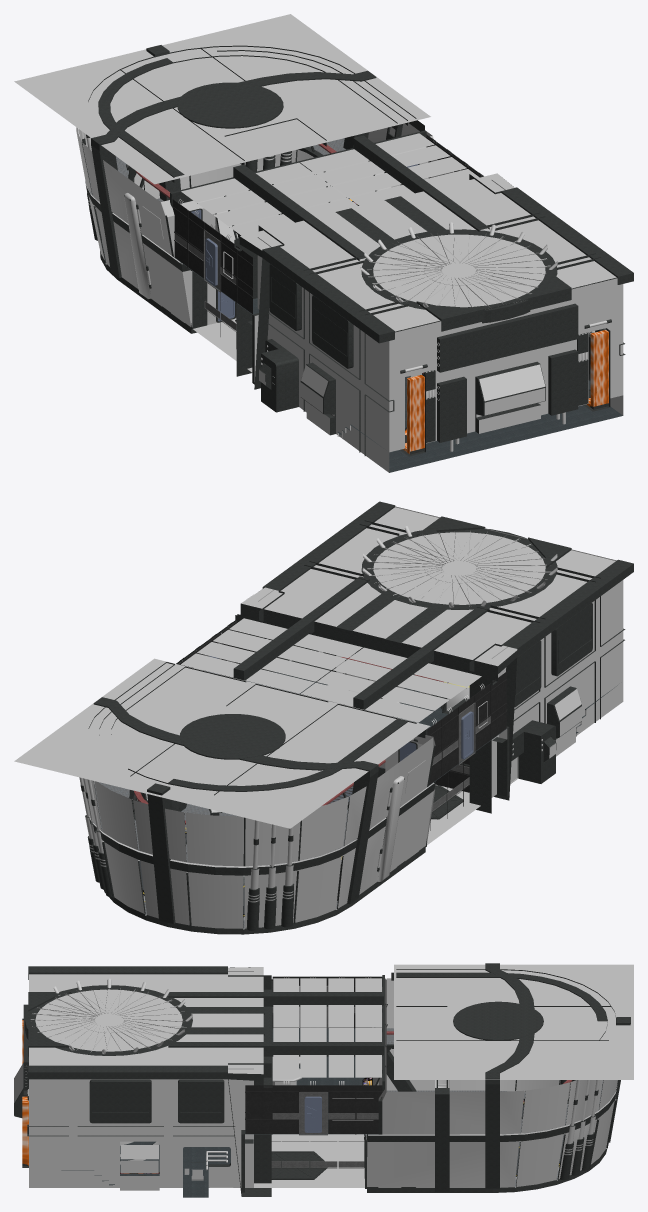
The model's file is MonitorShuttlebay.fbx.
The picture shows the model from 3 angles, top to bottom: view 1: azimuth 30°, elevation 25°; view 2: azimuth 150°, elevation 25°; view 3: azimuth 270°, elevation 25°; orthographic projection. The views are drawn at different scales.
Visible parts, largest first — view 1: Cube.006, Cube.022, Cube.016, Cube.020, Cube.005, Cube.025, Cube.012, Cube.018, Cube.028, Cube.003, Cube.009, Cube.027 (+1 smaller); view 2: Cube.006, Cube.022, Cube.020, Cube.016, Cube.025, Cube.018, Cube.003, Cube.009, Cube.012, Cube.027, Cube.011, Cube.005 (+1 smaller); view 3: Cube.006, Cube.022, Cube.020, Cube.016, Cube.025, Cube.009, Cube.005, Cube.018, Cube.027, Cube.012, Cube.003, Cube.011 (+2 smaller).
Boxes of the visible parts, bbox=[...] form: Cube.006: bbox=[14, 14, 616, 372]; Cube.022: bbox=[81, 45, 633, 456]; Cube.016: bbox=[254, 180, 623, 472]; Cube.020: bbox=[76, 123, 433, 326]; Cube.005: bbox=[174, 257, 622, 472]; Cube.025: bbox=[171, 136, 481, 348]; Cube.012: bbox=[127, 159, 545, 417]; Cube.018: bbox=[360, 222, 557, 307]; Cube.028: bbox=[403, 330, 608, 453]; Cube.003: bbox=[80, 130, 594, 451]; Cube.009: bbox=[85, 138, 373, 372]; Cube.027: bbox=[174, 170, 461, 331]; Cube.006: bbox=[14, 507, 615, 867]; Cube.022: bbox=[80, 501, 633, 934]; Cube.020: bbox=[82, 735, 435, 929]; Cube.016: bbox=[258, 506, 623, 797]; Cube.025: bbox=[178, 621, 507, 830]; Cube.018: bbox=[362, 526, 557, 607]; Cube.003: bbox=[79, 682, 542, 902]; Cube.009: bbox=[92, 782, 480, 928]; Cube.012: bbox=[194, 638, 581, 793]; Cube.027: bbox=[204, 642, 490, 811]; Cube.011: bbox=[209, 656, 473, 761]; Cube.005: bbox=[247, 652, 617, 785]; Cube.006: bbox=[27, 964, 633, 1136]; Cube.022: bbox=[14, 963, 630, 1196]; Cube.020: bbox=[367, 978, 617, 1187]; Cube.016: bbox=[29, 971, 253, 1190]; Cube.025: bbox=[245, 979, 382, 1168]; Cube.009: bbox=[254, 1028, 616, 1187]; Cube.005: bbox=[61, 1028, 378, 1197]; Cube.018: bbox=[30, 978, 192, 1054]; Cube.027: bbox=[271, 985, 378, 1167]; Cube.012: bbox=[14, 997, 393, 1180]; Cube.003: bbox=[25, 1071, 599, 1187]; Cube.011: bbox=[304, 1096, 321, 1132].
Size of the model in its own units: 5645 by 2831 by 12206.
